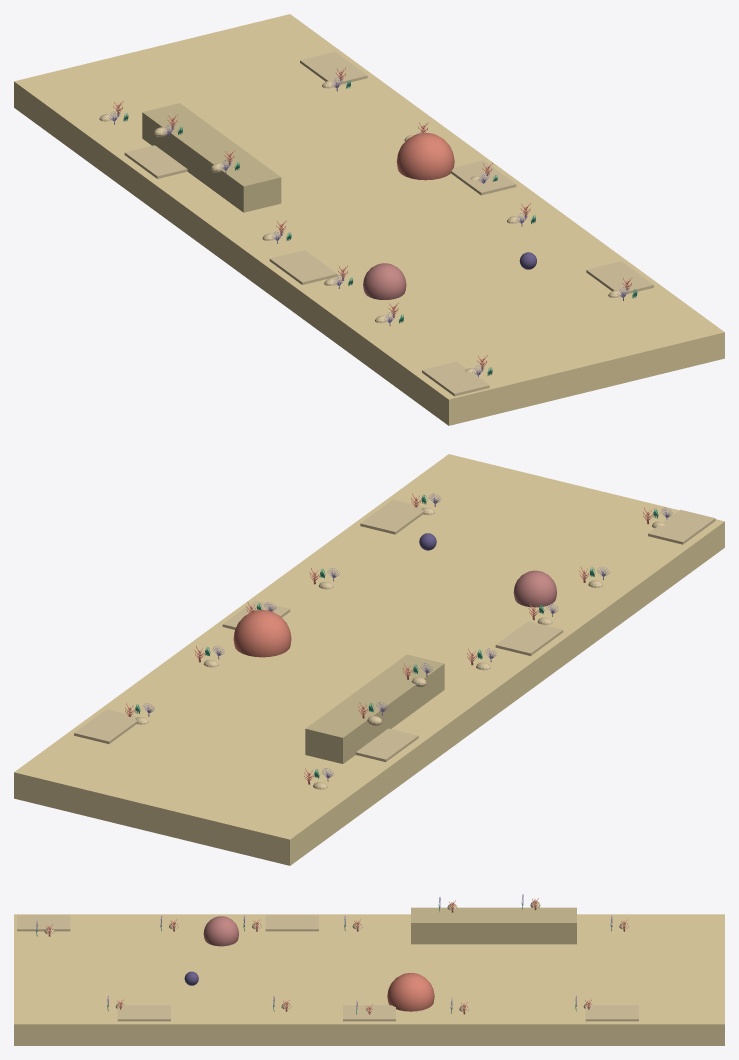
The model's file is sunlit-shoals.visual.glb.
3 renders of one model, top to bottom at view 1: azimuth 30°, elevation 25°; view 2: azimuth 150°, elevation 25°; view 3: azimuth 270°, elevation 25°, orthographic. The views are drawn at different scales.
Visible parts, largest first — view 1: sand-bed, west-ledge, coral-mound-east, decor-terrace-3, decor-terrace-5, coral-mound-west, decor-terrace-4, decor-terrace-0, decor-terrace-2, decor-terrace-1; view 2: sand-bed, west-ledge, coral-mound-east, decor-terrace-3, decor-terrace-5, coral-mound-west, decor-terrace-0, decor-terrace-4, decor-terrace-1; view 3: sand-bed, west-ledge, coral-mound-east, decor-terrace-3, decor-terrace-4, decor-terrace-0, coral-mound-west, decor-terrace-5, decor-terrace-2.
Part boxes in pixels (left/top/right/bottom): sand-bed: left=14, top=14, right=724, bottom=425; west-ledge: left=142, top=103, right=281, bottom=212; coral-mound-east: left=396, top=133, right=454, bottom=180; decor-terrace-3: left=269, top=250, right=337, bottom=284; decor-terrace-5: left=422, top=361, right=489, bottom=396; coral-mound-west: left=363, top=263, right=406, bottom=299; decor-terrace-4: left=586, top=261, right=653, bottom=294; decor-terrace-0: left=300, top=52, right=367, bottom=85; decor-terrace-2: left=451, top=160, right=516, bottom=195; decor-terrace-1: left=124, top=145, right=187, bottom=178; sand-bed: left=14, top=454, right=724, bottom=865; west-ledge: left=305, top=654, right=444, bottom=763; coral-mound-east: left=233, top=610, right=291, bottom=657; decor-terrace-3: left=495, top=621, right=563, bottom=655; decor-terrace-5: left=648, top=509, right=715, bottom=544; coral-mound-west: left=513, top=570, right=556, bottom=607; decor-terrace-0: left=74, top=709, right=137, bottom=743; decor-terrace-4: left=360, top=499, right=424, bottom=534; decor-terrace-1: left=355, top=728, right=418, bottom=762; sand-bed: left=14, top=914, right=724, bottom=1045; west-ledge: left=411, top=907, right=576, bottom=944; coral-mound-east: left=387, top=973, right=434, bottom=1011; decor-terrace-3: left=265, top=915, right=318, bottom=931; decor-terrace-4: left=117, top=1005, right=170, bottom=1021; decor-terrace-0: left=585, top=1005, right=638, bottom=1021; coral-mound-west: left=203, top=916, right=238, bottom=946; decor-terrace-5: left=17, top=915, right=70, bottom=931; decor-terrace-2: left=343, top=1005, right=395, bottom=1021.
Size of the model in its own units: 44 by 10.31 by 120.
